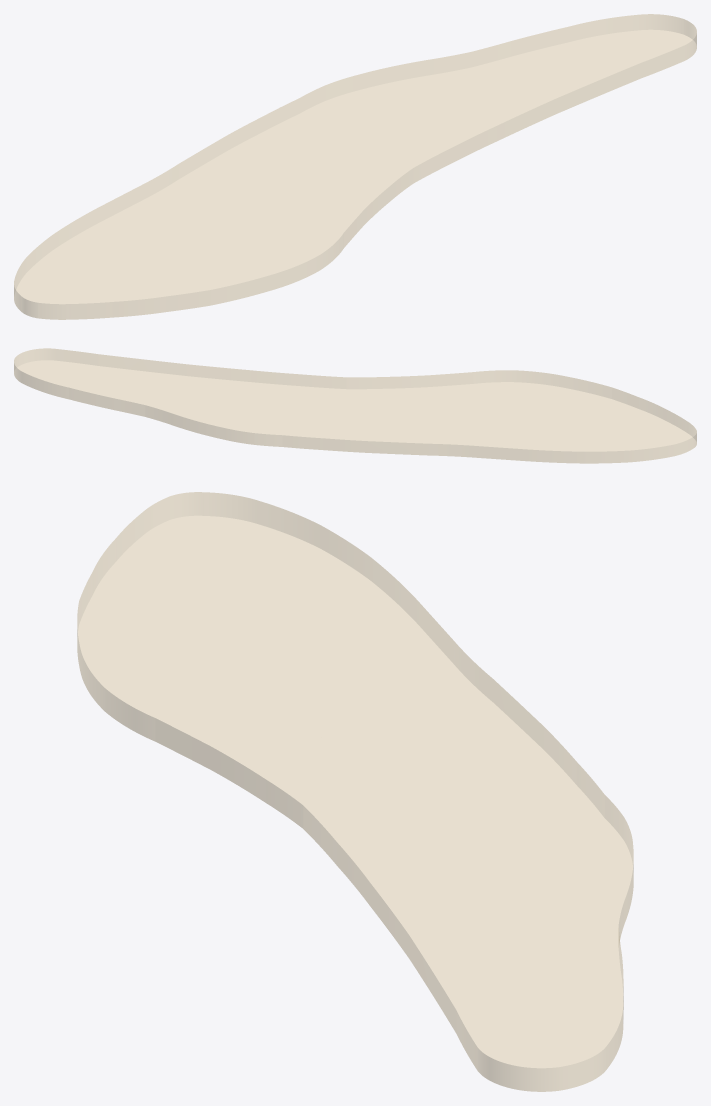
File: Development_Area_Northern_0.glb
3 renders of one model, top to bottom at view 1: azimuth 30°, elevation 25°; view 2: azimuth 150°, elevation 25°; view 3: azimuth 270°, elevation 25°, orthographic. The views are drawn at different scales.
Parts seen in each view (by area): view 1: from extrude; view 2: from extrude; view 3: from extrude.
Boxes of the visible parts, x1=… form: from extrude: x1=14, y1=14, x2=696, y2=319; from extrude: x1=14, y1=348, x2=696, y2=463; from extrude: x1=77, y1=492, x2=633, y2=1091.
Bounding box in the file's own units: 261 × 5 × 107.
